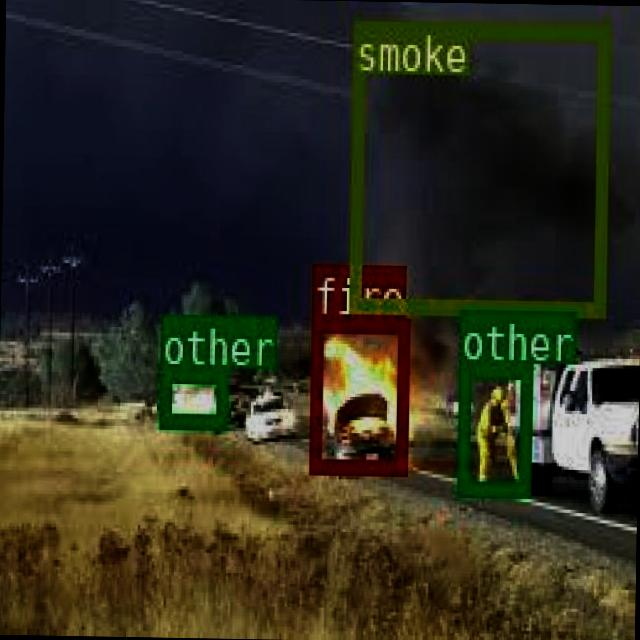fire: (308, 315, 407, 472)
smoke: (348, 18, 608, 312)
